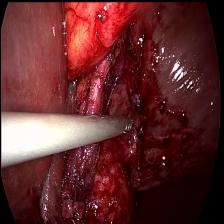Irrigator: (107, 108, 134, 142)
